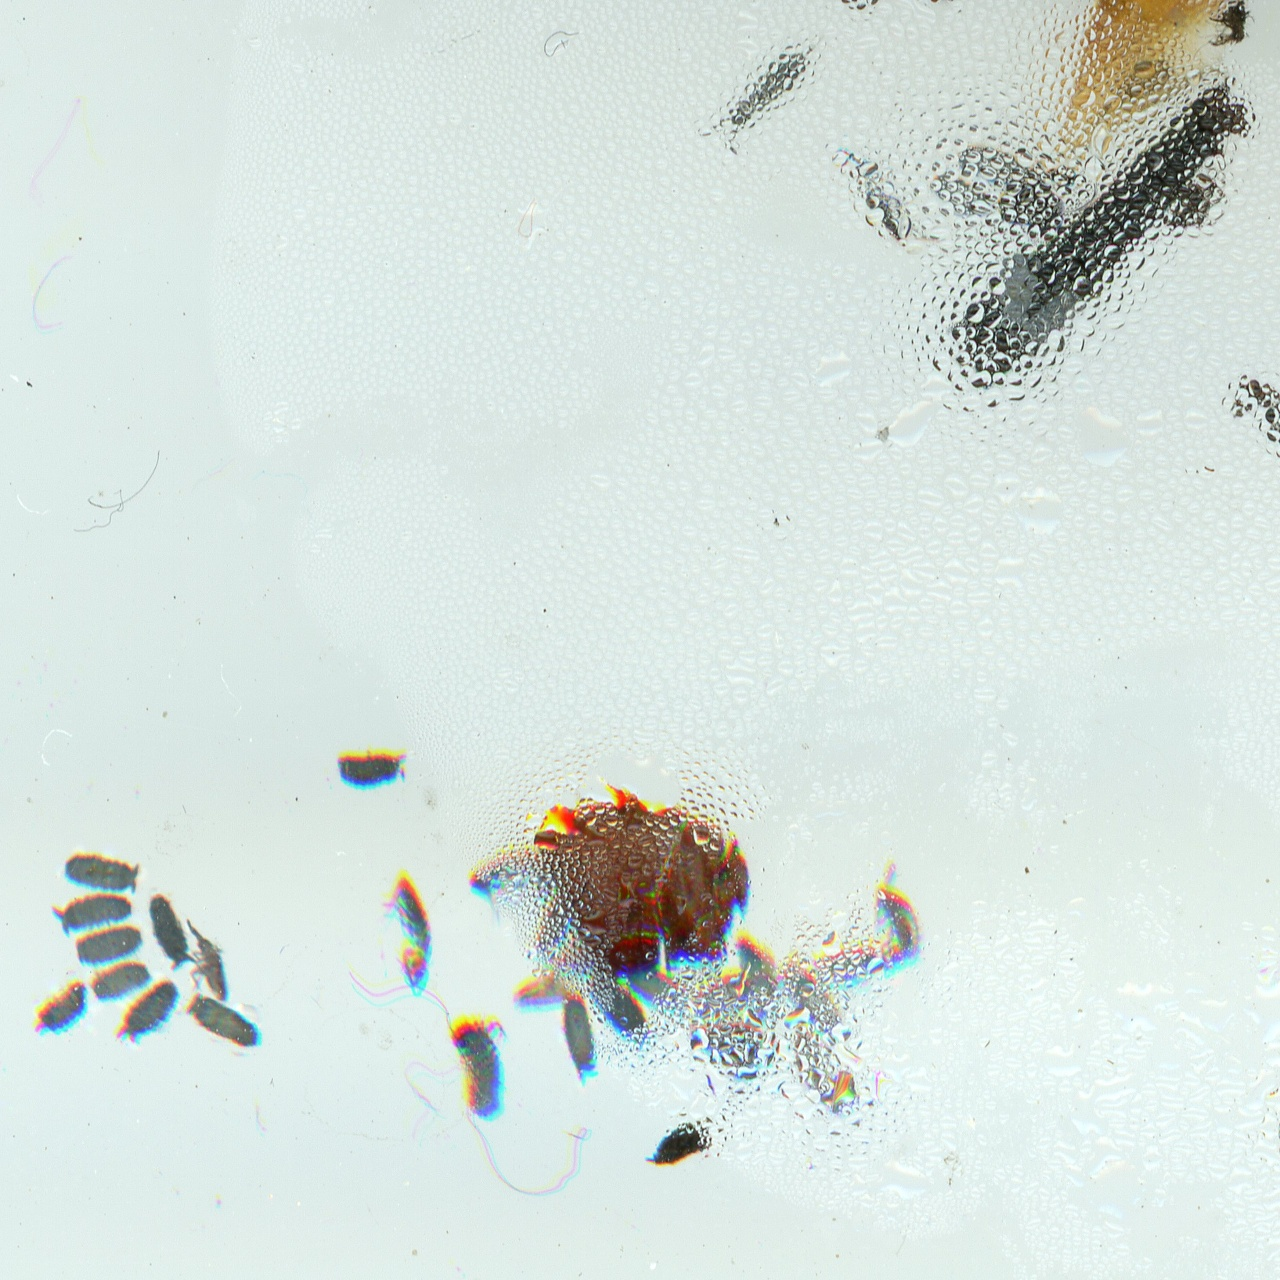arthropod: (690, 5, 844, 170), (578, 966, 668, 1059), (770, 951, 854, 1046), (105, 969, 192, 1060), (376, 868, 435, 1001), (19, 967, 101, 1053), (179, 985, 270, 1059), (550, 991, 611, 1093), (452, 1021, 508, 1127), (136, 885, 201, 976), (618, 949, 692, 1021), (83, 949, 160, 1010), (49, 886, 136, 939), (68, 917, 150, 973), (872, 883, 925, 968), (183, 916, 233, 1005), (332, 742, 412, 793), (61, 847, 144, 896)
